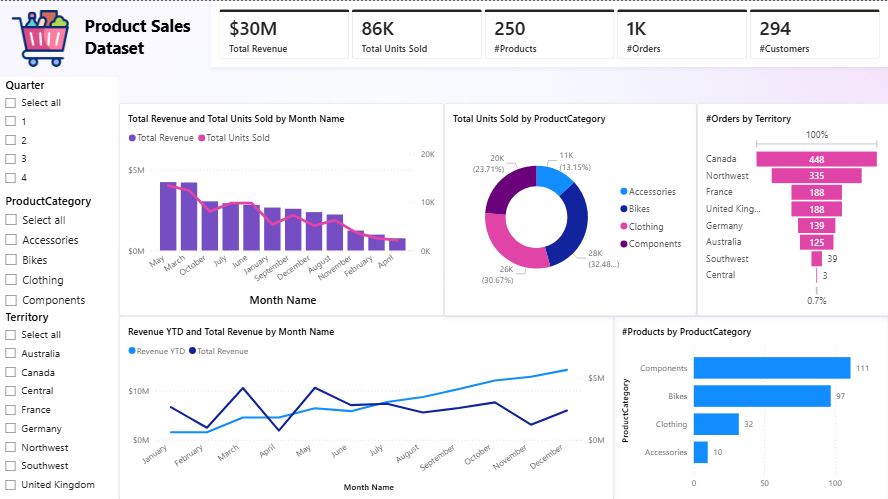

Layout of this report page (visuals, bound fields, positions):
{"tool":"powerbi","page":{"name":"Sales","canvas":[1280,720],"ordinal":1},"visuals":[{"type":"cardVisual","fields":{"Data":["DAX Measure.Total Revenue","DAX Measure.Total Units Sold","DAX Measure.#Products","DAX Measure.#Orders","DAX Measure.#Customers"]},"box":[303.8,0,976.3,95],"z":0},{"type":"slicer","fields":{"Values":["DimDate3.Quarter"]},"box":[0,109.4,171.4,167],"z":1000},{"type":"slicer","fields":{"Values":["DimProduct6.ProductCategory"]},"box":[0,276.5,171.4,167],"z":2000},{"type":"slicer","fields":{"Values":["DimTerritotry4.Territory"]},"box":[0,443.5,171.4,276.5],"z":3000},{"type":"image","box":[0,13,116.6,82.1],"z":4000},{"type":"textbox","box":[116.6,13,171.4,82.1],"z":5000},{"type":"lineClusteredColumnComboChart","fields":{"Y":["DAX Measure.Total Revenue"],"Category":["DimDate3.Month Name"],"Y2":["DAX Measure.Total Units Sold"]},"box":[171.4,146.9,468,306.7],"z":5001},{"type":"clusteredBarChart","fields":{"Y":["DAX Measure.#Products"],"Category":["DimProduct6.ProductCategory"]},"box":[882.7,453.6,397.4,266.4],"z":5002},{"type":"lineChart","fields":{"Category":["DimDate3.Month Name"],"Y2":["DAX Measure.Total Revenue"],"Y":["DAX Measure.Revenue YTD"]},"box":[171.4,453.6,712.8,266.4],"z":5003},{"type":"donutChart","fields":{"Series":["DimProduct6.ProductCategory"],"Y":["DAX Measure.Total Units Sold"]},"box":[639.4,146.9,364.3,306.7],"z":5004},{"type":"funnel","fields":{"Y":["DAX Measure.#Orders"],"Category":["DimTerritotry4.Territory"]},"box":[1003,147,277,307],"z":5005}]}

Visuals, with their boxes in screenshot pixels (x1, y1, x2, y2), scaled from the page's 1280x720 canvas onto the 888x499 screenshot:
cardVisual - DAX Measure.Total Revenue x DAX Measure.Total Units Sold: x1=211, y1=0, x2=887, y2=66
slicer - DimDate3.Quarter: x1=0, y1=76, x2=119, y2=192
slicer - DimProduct6.ProductCategory: x1=0, y1=192, x2=119, y2=307
slicer - DimTerritotry4.Territory: x1=0, y1=307, x2=119, y2=498
image: x1=0, y1=9, x2=81, y2=66
textbox: x1=81, y1=9, x2=200, y2=66
lineClusteredColumnComboChart - DAX Measure.Total Revenue x DimDate3.Month Name: x1=119, y1=102, x2=444, y2=314
clusteredBarChart - DAX Measure.#Products x DimProduct6.ProductCategory: x1=612, y1=314, x2=887, y2=498
lineChart - DimDate3.Month Name x DAX Measure.Total Revenue: x1=119, y1=314, x2=613, y2=498
donutChart - DimProduct6.ProductCategory x DAX Measure.Total Units Sold: x1=444, y1=102, x2=696, y2=314
funnel - DAX Measure.#Orders x DimTerritotry4.Territory: x1=696, y1=102, x2=887, y2=315
